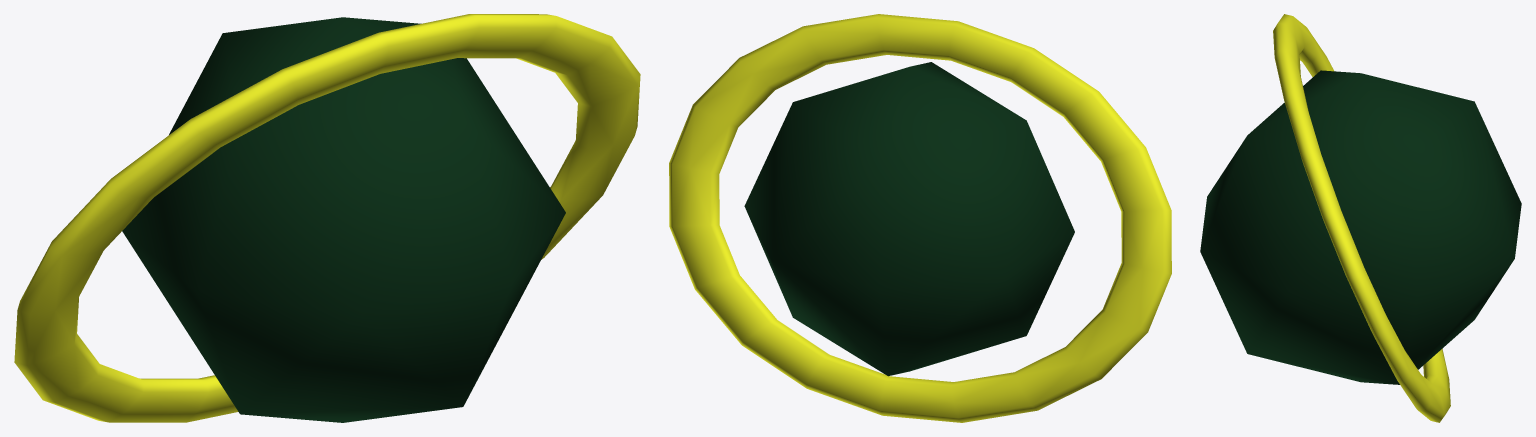
The model's file is Planet.FBX.
3 renders of one model, left to right at view 1: azimuth 30°, elevation 25°; view 2: azimuth 150°, elevation 25°; view 3: azimuth 270°, elevation 25°, orthographic. The views are drawn at different scales.
Visible parts, largest first — view 1: GeoSphere001; view 2: GeoSphere001; view 3: GeoSphere001.
Part boxes in pixels (<box>): GeoSphere001: <box>14,14,640,422</box>; GeoSphere001: <box>669,14,1171,422</box>; GeoSphere001: <box>1200,14,1521,422</box>.
Size of the model in its own units: 110 by 72.7 by 62.59.
